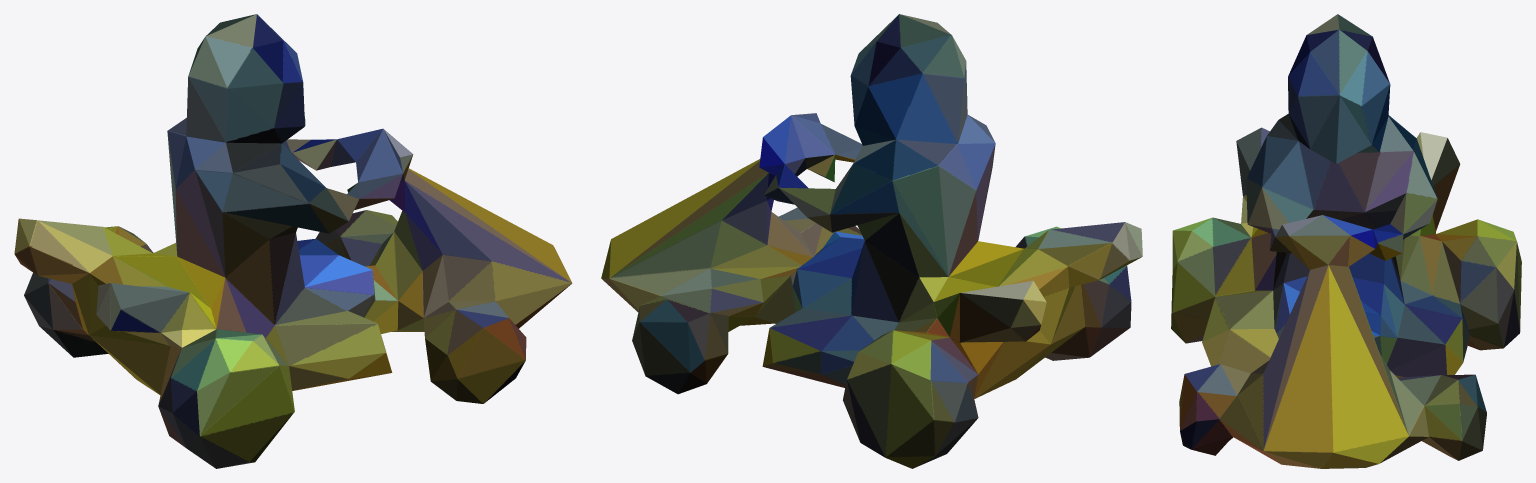
The model's file is Blue_and_Gold_Futuris_0714231313_refine.fbx.
3 renders of one model, left to right at view 1: azimuth 30°, elevation 25°; view 2: azimuth 150°, elevation 25°; view 3: azimuth 270°, elevation 25°, orthographic. The views are drawn at different scales.
Parts seen in each view (by area): view 1: Mesh_0; view 2: Mesh_0; view 3: Mesh_0.
Boxes of the visible parts, x1,y1,x2,y2 form: Mesh_0: (14,14,572,468); Mesh_0: (601,14,1142,468); Mesh_0: (1171,14,1521,468).
Size of the model in its own units: 120 by 86.44 by 77.7.
1 material, 1 textured.
